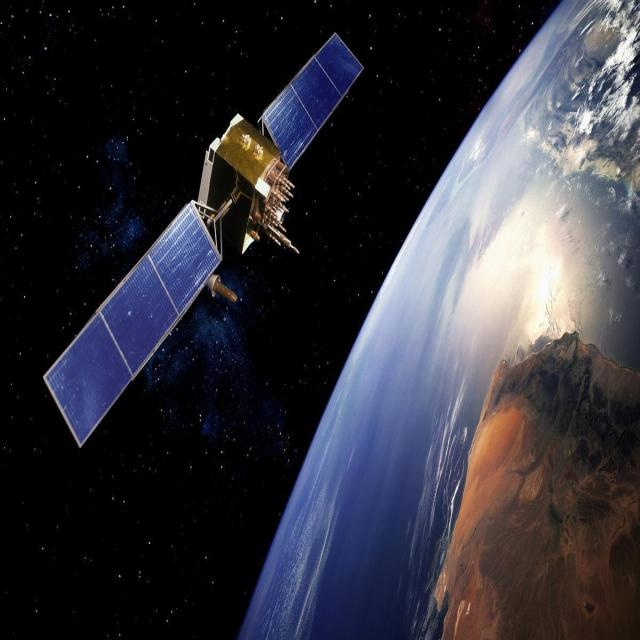satellite: (33, 21, 371, 454)
